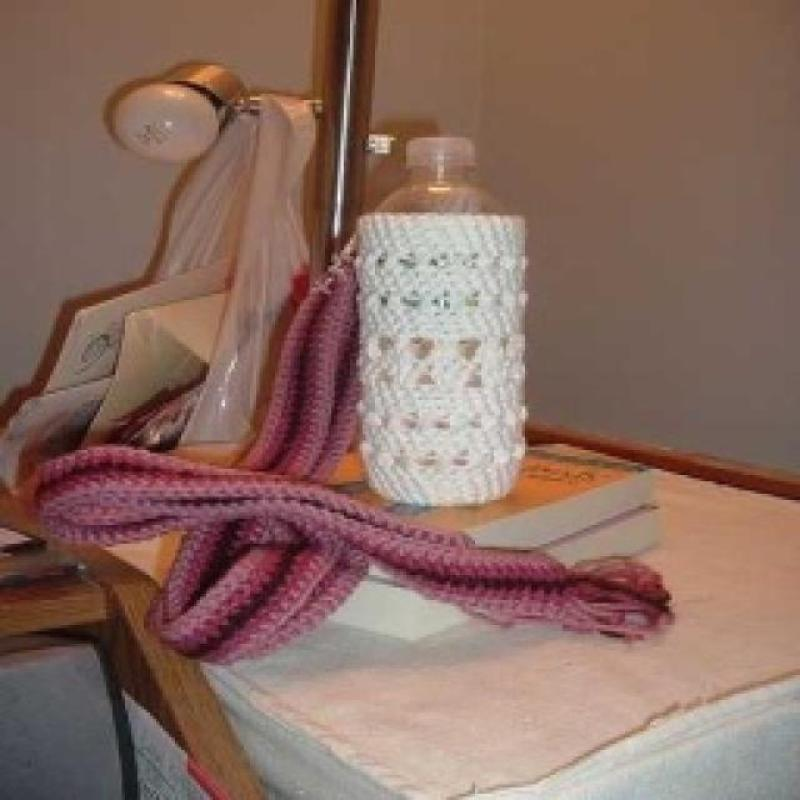botella: (376, 134, 505, 213)
